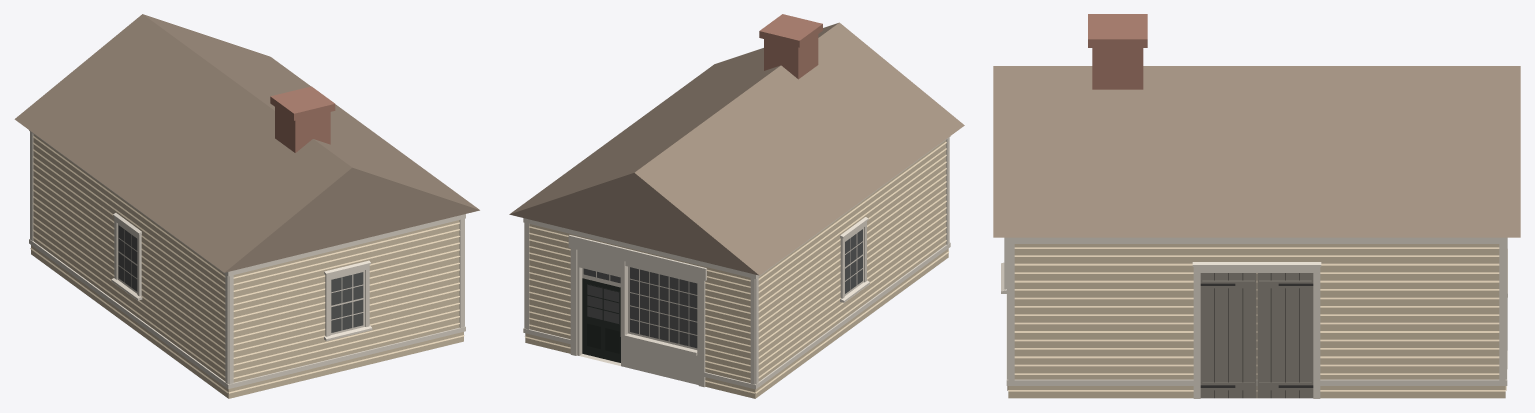
Rendered from recon_1835_blk_south_water_lasalle_c1_08__inferred_1835.glb.
3 renders of one model, left to right at view 1: azimuth 30°, elevation 25°; view 2: azimuth 150°, elevation 25°; view 3: azimuth 270°, elevation 25°, orthographic. The views are drawn at different scales.
Parts seen in each view (by area): view 1: recon_1835_blk_south_water_lasalle_c1_08__inferred_1835; view 2: recon_1835_blk_south_water_lasalle_c1_08__inferred_1835; view 3: recon_1835_blk_south_water_lasalle_c1_08__inferred_1835.
Boxes of the visible parts, bbox=[...] form: recon_1835_blk_south_water_lasalle_c1_08__inferred_1835: bbox=[14, 14, 479, 398]; recon_1835_blk_south_water_lasalle_c1_08__inferred_1835: bbox=[509, 14, 964, 398]; recon_1835_blk_south_water_lasalle_c1_08__inferred_1835: bbox=[993, 14, 1520, 398].
Bounding box in the file's own units: 6.09 × 5.42 × 8.64.
